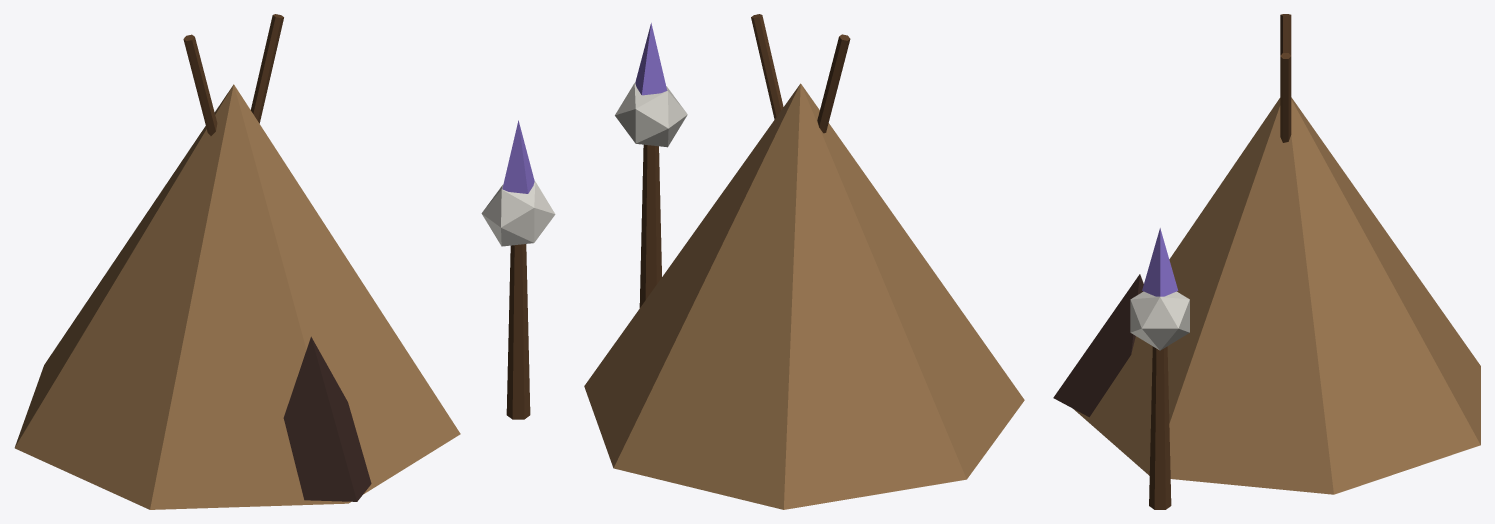
Rendered from shaman-hut.glb.
The picture shows the model from 3 angles, left to right: view 1: azimuth 30°, elevation 25°; view 2: azimuth 150°, elevation 25°; view 3: azimuth 270°, elevation 25°; orthographic projection. The views are drawn at different scales.
Parts seen in each view (by area): view 1: shaman_hut; view 2: shaman_hut; view 3: shaman_hut.
Part boxes in pixels (bbox=[...]): shaman_hut: bbox=[14, 14, 555, 509]; shaman_hut: bbox=[584, 14, 1024, 509]; shaman_hut: bbox=[1053, 14, 1480, 509].
Bounding box in the file's own units: 0.3424 × 0.2994 × 0.3063.
